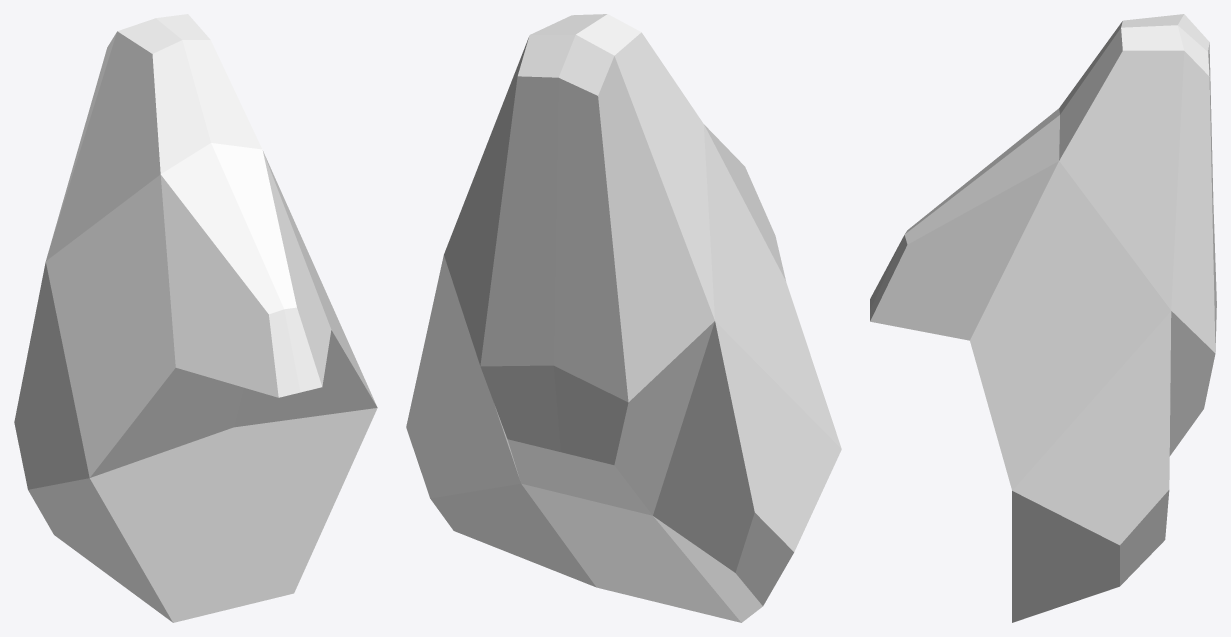
File: head_8.fbx
The picture shows the model from 3 angles, left to right: view 1: azimuth 30°, elevation 25°; view 2: azimuth 150°, elevation 25°; view 3: azimuth 270°, elevation 25°; orthographic projection. The views are drawn at different scales.
Parts seen in each view (by area): view 1: Cube.127; view 2: Cube.127; view 3: Cube.127.
Boxes of the visible parts, x1,y1,x2,y2 form: Cube.127: (14,14,377,622); Cube.127: (406,14,841,622); Cube.127: (870,14,1216,622).
Bounding box in the file's own units: 19.05 × 31.29 × 17.37.
